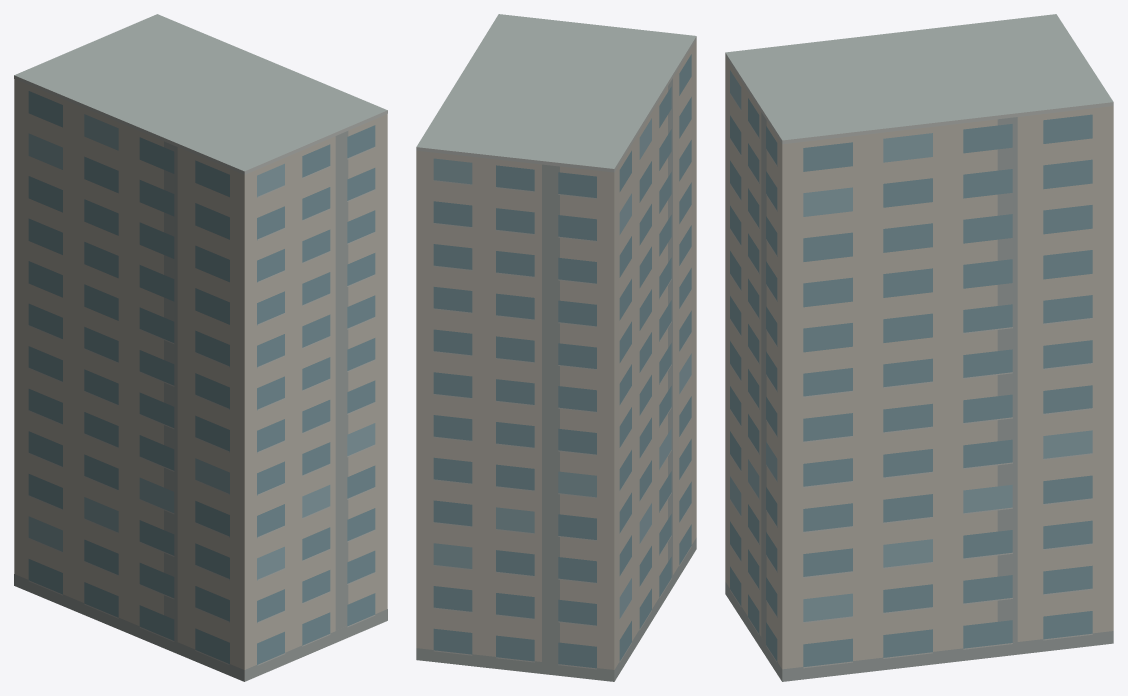
The model's file is residential-81b132b4-844c-41cf-aaa1-baa3adbe0b4f.glb.
3 renders of one model, left to right at view 1: azimuth 30°, elevation 25°; view 2: azimuth 150°, elevation 25°; view 3: azimuth 270°, elevation 25°, orthographic. The views are drawn at different scales.
Parts seen in each view (by area): view 1: residential-81b132b4-844c-41cf-aaa1-baa3adbe0b4f.tmp; view 2: residential-81b132b4-844c-41cf-aaa1-baa3adbe0b4f.tmp; view 3: residential-81b132b4-844c-41cf-aaa1-baa3adbe0b4f.tmp.
Part boxes in pixels (x1,y1,x2,y2): residential-81b132b4-844c-41cf-aaa1-baa3adbe0b4f.tmp: [14, 14, 387, 681]; residential-81b132b4-844c-41cf-aaa1-baa3adbe0b4f.tmp: [416, 14, 696, 681]; residential-81b132b4-844c-41cf-aaa1-baa3adbe0b4f.tmp: [725, 14, 1113, 681].
Size of the model in its own units: 17.54 by 35 by 22.77.
